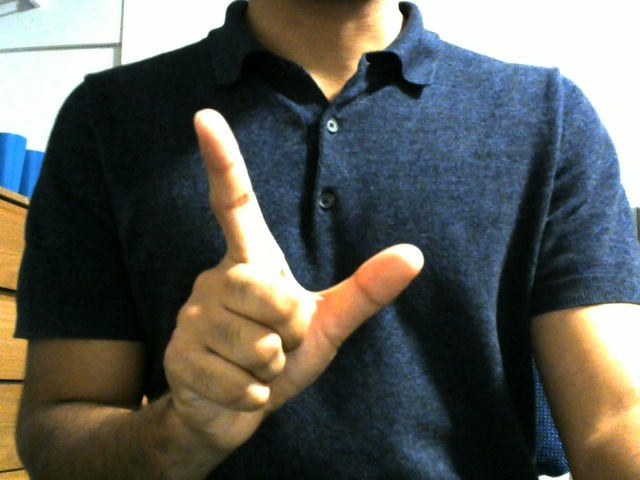L: (156, 113, 425, 416)
